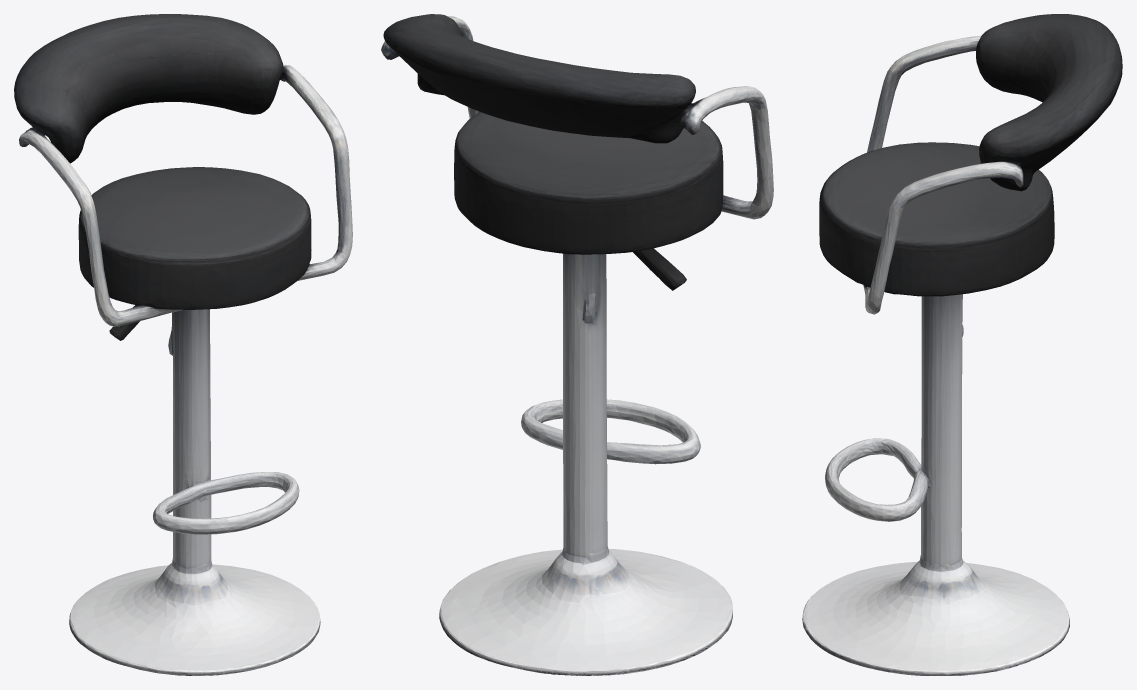
File: barstool_round_blck_silver_bot.glb
3 renders of one model, left to right at view 1: azimuth 30°, elevation 25°; view 2: azimuth 150°, elevation 25°; view 3: azimuth 270°, elevation 25°, orthographic. The views are drawn at different scales.
Parts seen in each view (by area): view 1: world; view 2: world; view 3: world.
Boxes of the visible parts, bbox=[...] form: world: bbox=[14, 14, 352, 675]; world: bbox=[381, 14, 773, 675]; world: bbox=[802, 14, 1122, 675].
Bounding box in the file's own units: 0.5288 × 0.9996 × 0.5114.
Materials: 1 (1 with a texture image).
